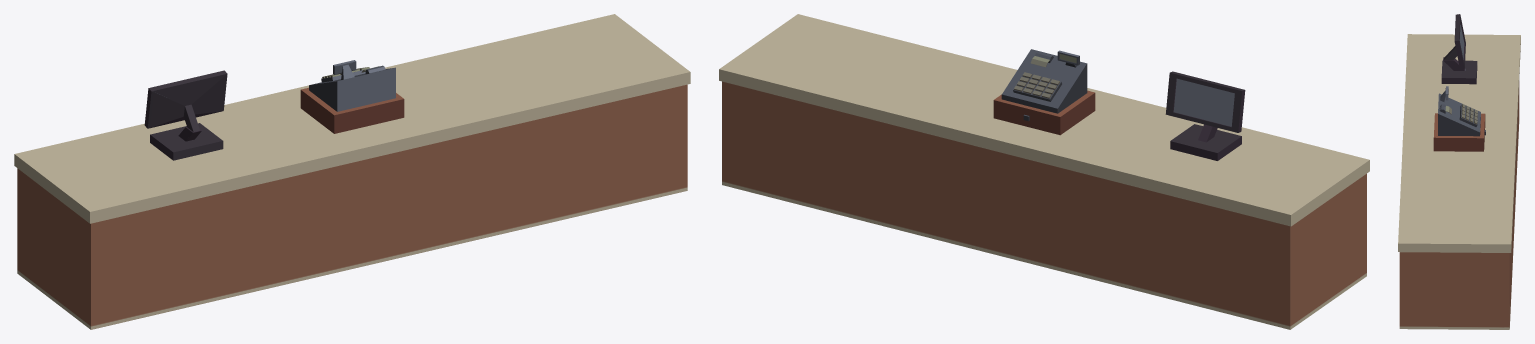
File: MejaKasirDapur.fbx
3 renders of one model, left to right at view 1: azimuth 30°, elevation 25°; view 2: azimuth 150°, elevation 25°; view 3: azimuth 270°, elevation 25°, orthographic. The views are drawn at different scales.
Parts seen in each view (by area): view 1: Meja Kasir 2, Meja Kasir 4.001, Meja Kasir 3; view 2: Meja Kasir 2, Meja Kasir 4.001, Meja Kasir 3; view 3: Meja Kasir 2, Meja Kasir 4.001, Meja Kasir 3.
Boxes of the visible parts, x1=… form: Meja Kasir 2: x1=14, y1=14, x2=690, y2=329; Meja Kasir 4.001: x1=300, y1=60, x2=404, y2=133; Meja Kasir 3: x1=144, y1=70, x2=227, y2=160; Meja Kasir 2: x1=719, y1=14, x2=1369, y2=329; Meja Kasir 4.001: x1=993, y1=49, x2=1095, y2=135; Meja Kasir 3: x1=1165, y1=71, x2=1245, y2=160; Meja Kasir 2: x1=1398, y1=34, x2=1520, y2=329; Meja Kasir 4.001: x1=1433, y1=86, x2=1485, y2=151; Meja Kasir 3: x1=1441, y1=14, x2=1477, y2=84.
Size of the model in its own units: 980 by 303 by 242.
